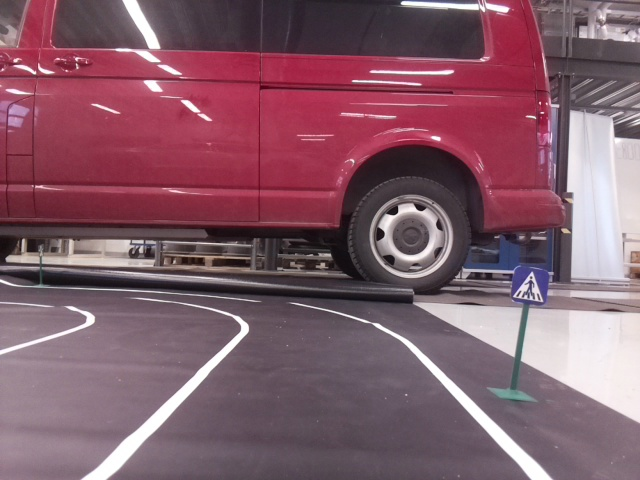Crosswalk: (511, 265, 546, 304)
